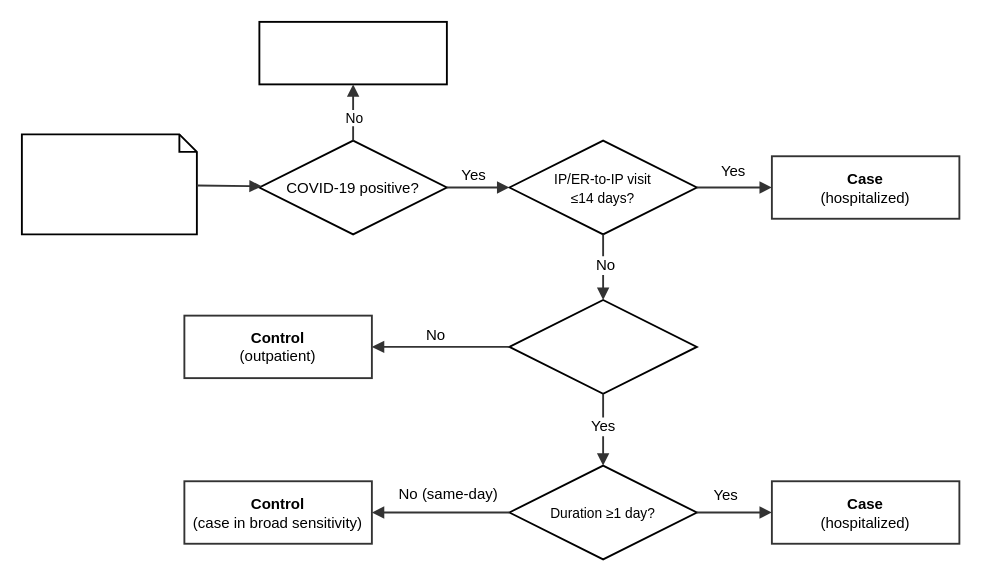
The diagram is 983 pixels wide and 583 high, and some of its shapes have lost their labels. The centre of each missing label's shape, as x and y in pixels:
"Data Domains - ICD conditions - Visit records - Lab results" goes at (x=108, y=184).
"ED visit ≤14 days?" goes at (x=602, y=346).
"Excluded" goes at (x=352, y=52).
